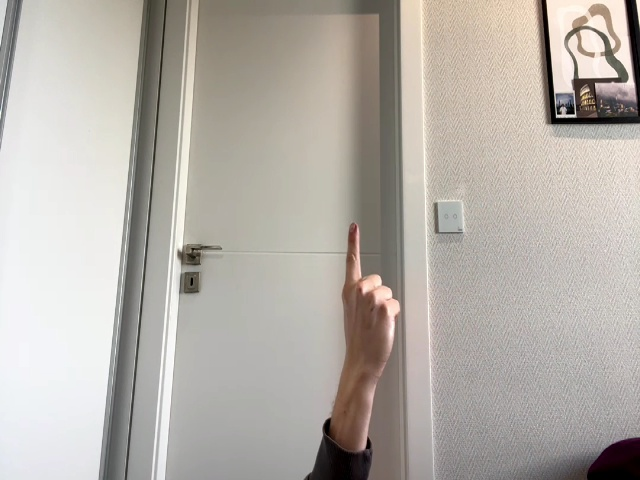D: (341, 223, 401, 389)
